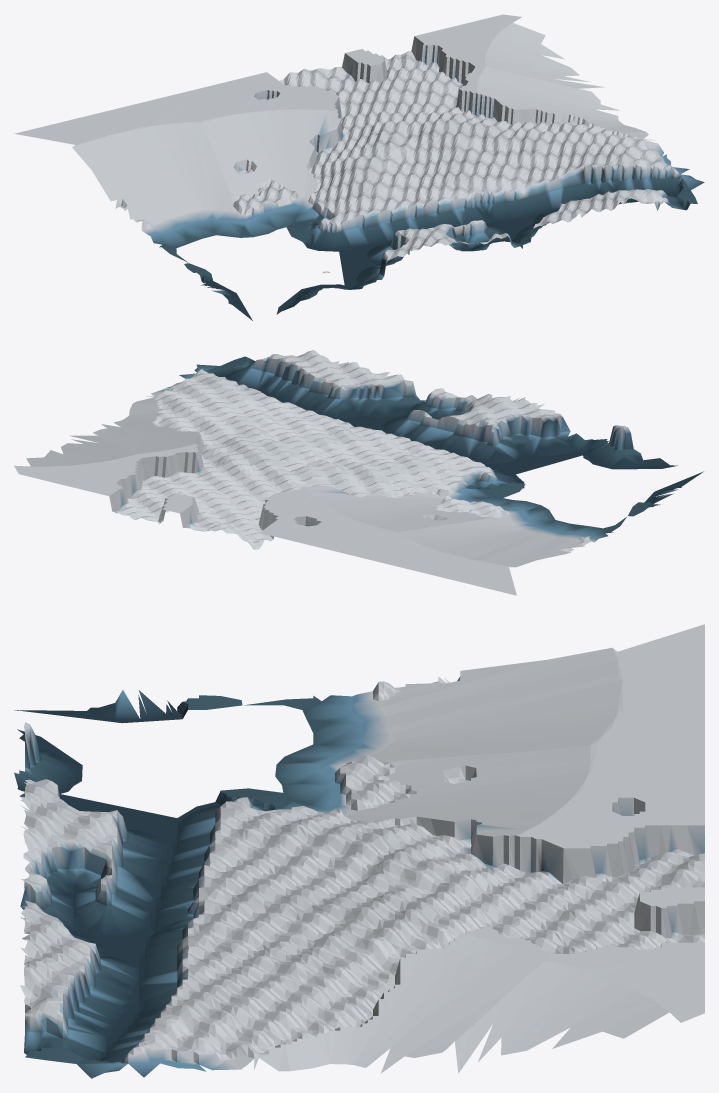
The model's file is frost_tile_x2z0_lod1.glb.
3 renders of one model, top to bottom at view 1: azimuth 30°, elevation 25°; view 2: azimuth 150°, elevation 25°; view 3: azimuth 270°, elevation 25°, orthographic. The views are drawn at different scales.
Parts seen in each view (by area): view 1: geometry_0; view 2: geometry_0; view 3: geometry_0.
Part boxes in pixels (left/top/right/bottom): geometry_0: left=14, top=14, right=704, bottom=320; geometry_0: left=14, top=350, right=703, bottom=595; geometry_0: left=14, top=624, right=704, bottom=1078.
Size of the model in its own units: 1072 by 78.14 by 762.
